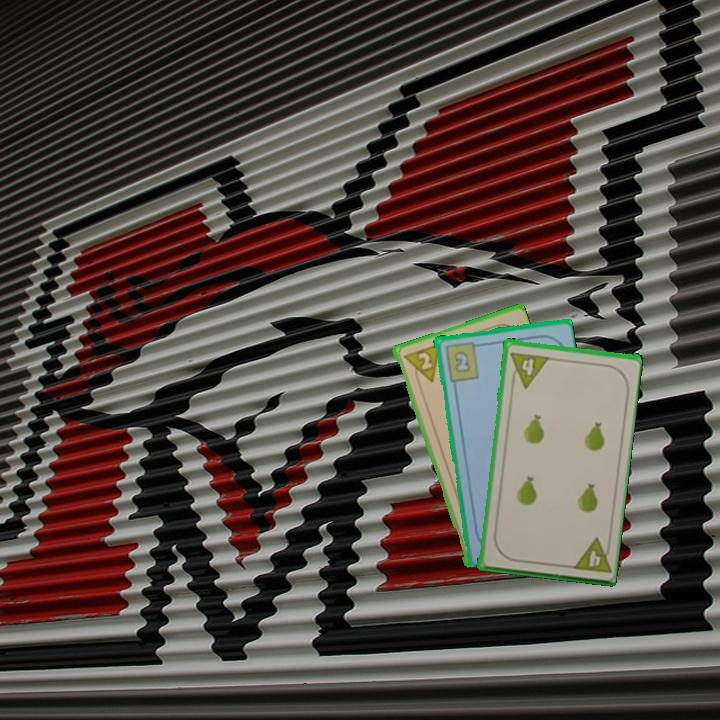2b: (441, 338, 483, 384)
2p: (398, 340, 442, 388)
4p: (567, 534, 614, 576), (506, 348, 551, 390)
